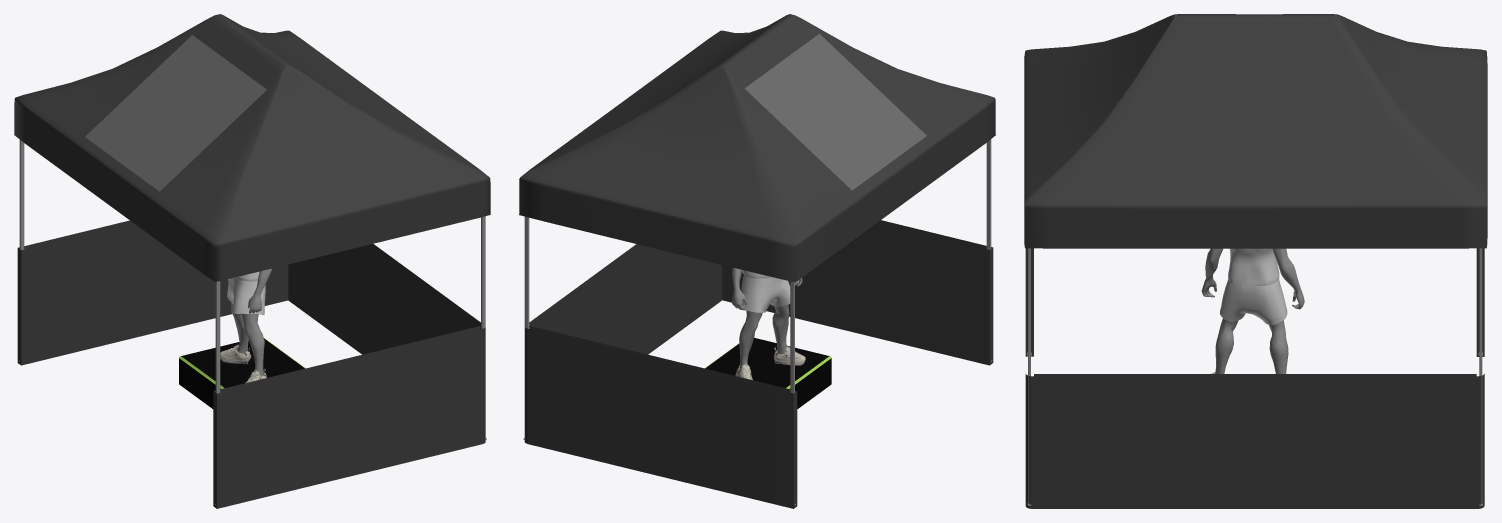
File: Booth.fbx
The picture shows the model from 3 angles, left to right: view 1: azimuth 30°, elevation 25°; view 2: azimuth 150°, elevation 25°; view 3: azimuth 270°, elevation 25°; orthographic projection. The views are drawn at different scales.
Parts seen in each view (by area): view 1: Side_panel, Top, Logo, Podium_base, Pipe, Mannequin, Boy_Full_Costume_076, Boy_Shoes_062; view 2: Side_panel, Top, Logo, Podium_base, Pipe, Mannequin, Boy_Full_Costume_076, Boy_Shoes_062; view 3: Top, Side_panel, Boy_Full_Costume_076, Mannequin, Pipe.
Part boxes in pixels (left/top/right/bottom): Side_panel: left=17, top=220, right=485, bottom=508; Top: left=14, top=14, right=490, bottom=281; Logo: left=85, top=35, right=266, bottom=191; Podium_base: left=179, top=338, right=305, bottom=408; Pipe: left=18, top=139, right=486, bottom=505; Mannequin: left=227, top=268, right=272, bottom=375; Boy_Full_Costume_076: left=227, top=271, right=265, bottom=315; Boy_Shoes_062: left=220, top=344, right=266, bottom=383; Side_panel: left=524, top=220, right=993, bottom=508; Top: left=519, top=14, right=995, bottom=282; Logo: left=745, top=34, right=926, bottom=190; Podium_base: left=705, top=338, right=831, bottom=408; Pipe: left=523, top=139, right=992, bottom=505; Mannequin: left=732, top=267, right=802, bottom=368; Boy_Full_Costume_076: left=740, top=270, right=790, bottom=312; Boy_Shoes_062: left=734, top=345, right=805, bottom=379; Top: left=1024, top=14, right=1487, bottom=248; Side_panel: left=1025, top=248, right=1484, bottom=508; Boy_Full_Costume_076: left=1219, top=248, right=1287, bottom=324; Mannequin: left=1201, top=248, right=1304, bottom=373; Pipe: left=1027, top=248, right=1482, bottom=505.
Size of the model in its own units: 251 by 314 by 316.
